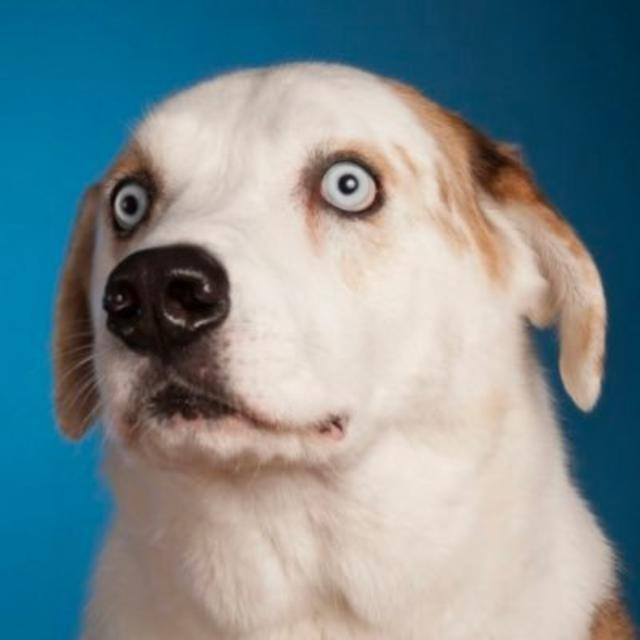dog: (54, 34, 616, 488)
